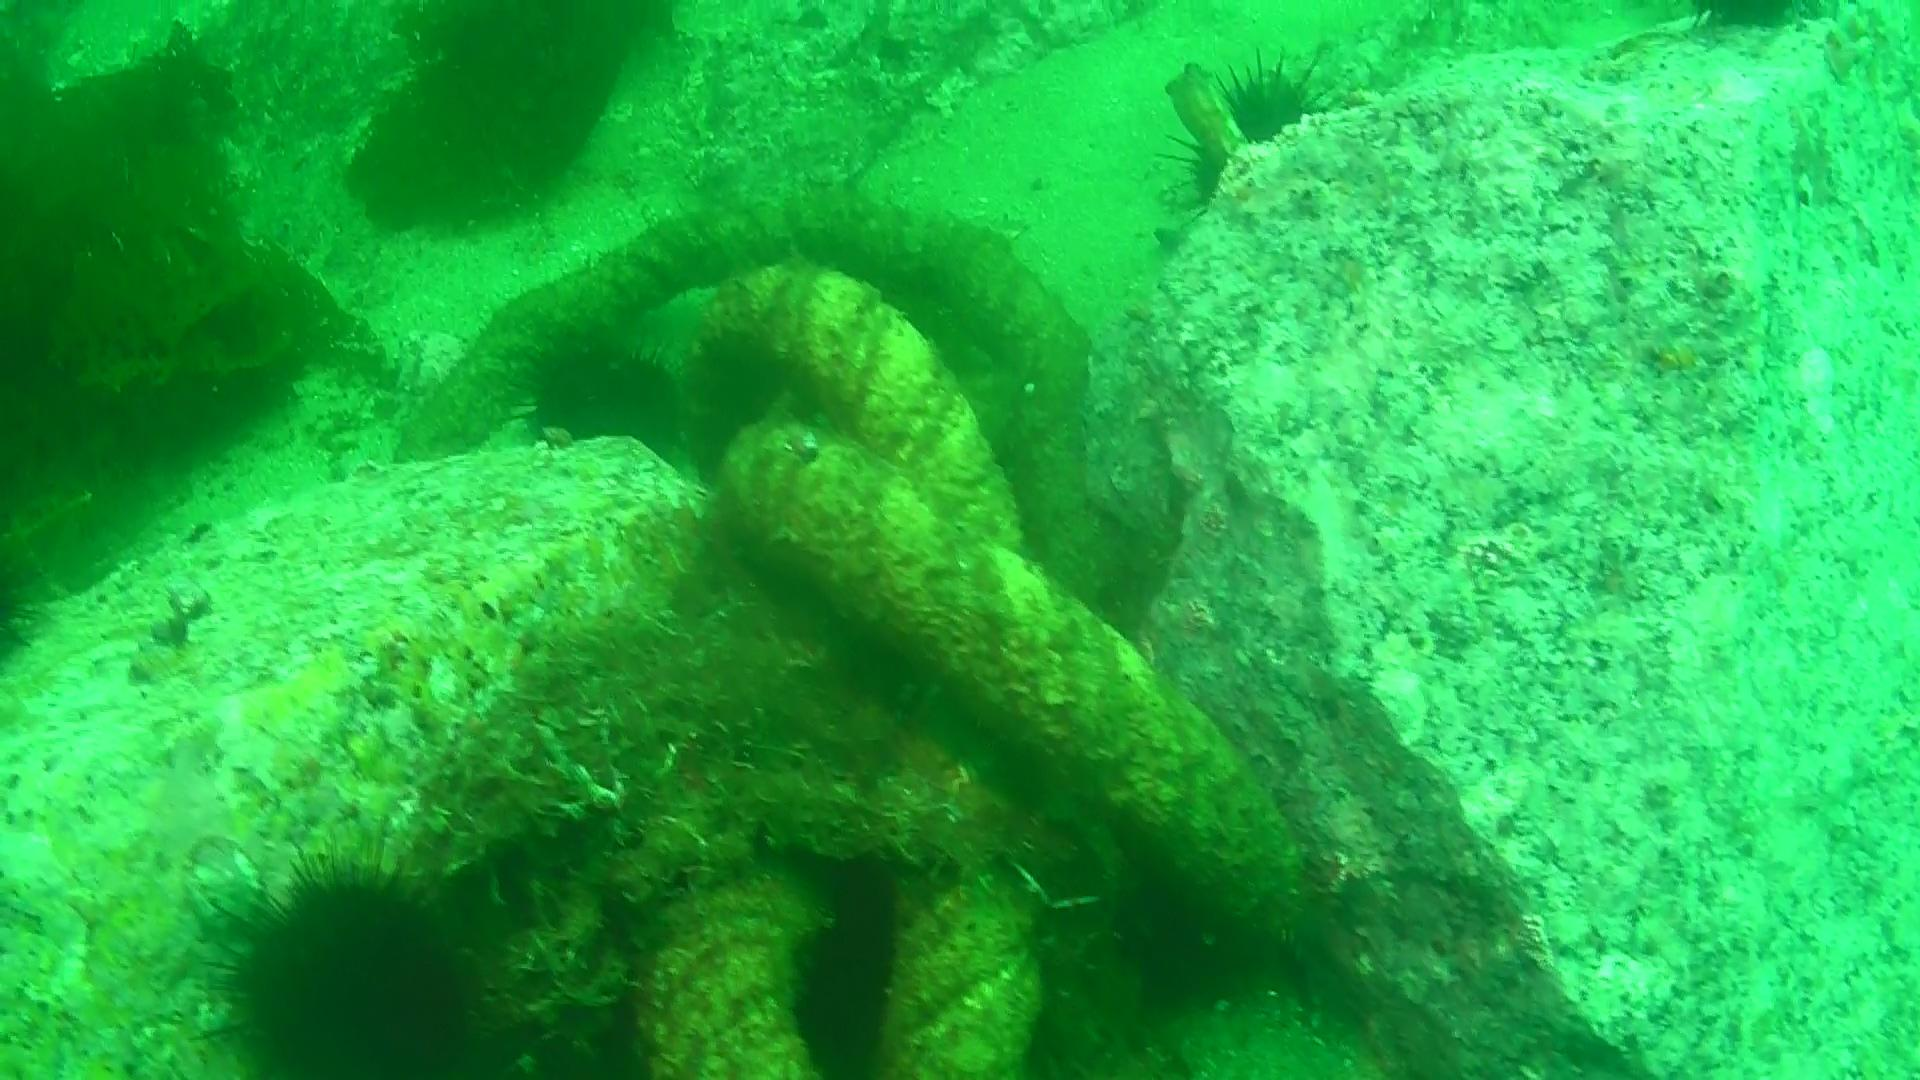bundle of ropes: (390, 190, 1308, 1080)
